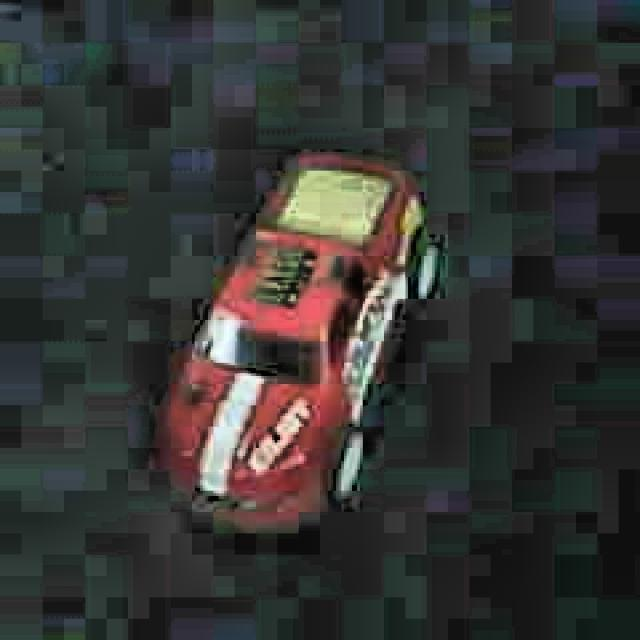car: (155, 138, 448, 540)
